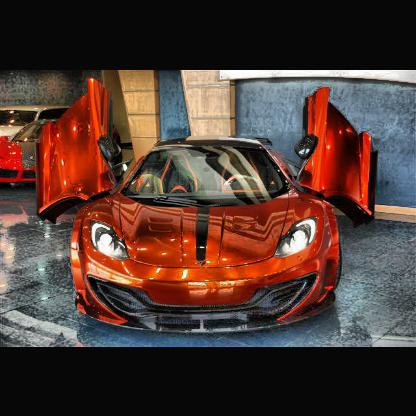McLaren MP4-12C Coupe 2012: (39, 78, 377, 338)
